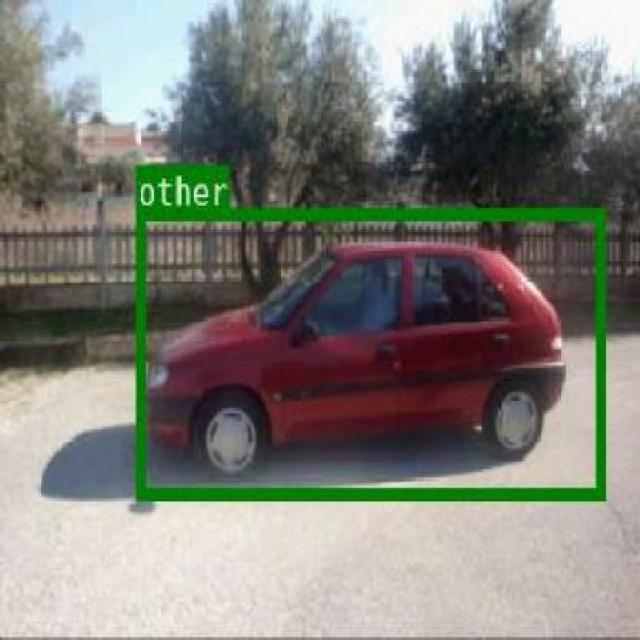other: (135, 208, 602, 497)
